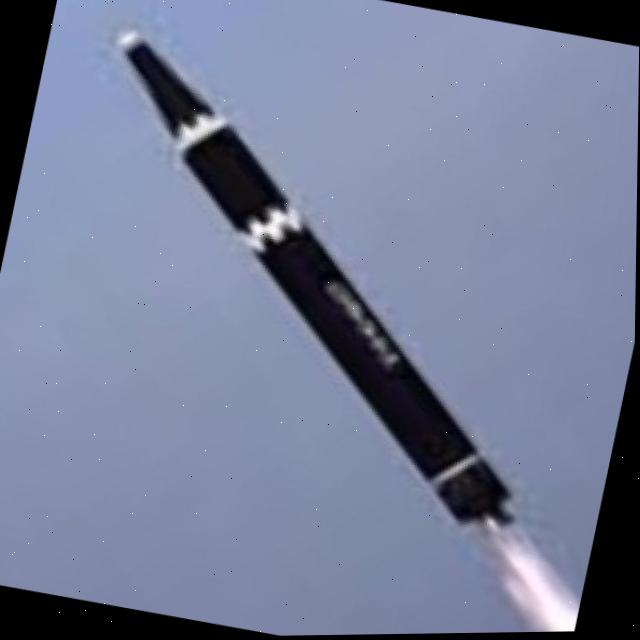missile: (22, 15, 597, 546)
